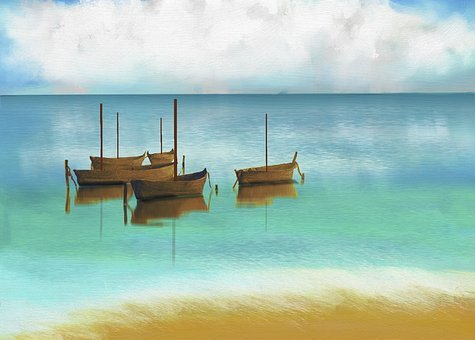boat: (60, 99, 177, 185), (126, 96, 212, 203), (231, 112, 306, 185), (86, 110, 146, 169), (146, 117, 178, 164)
